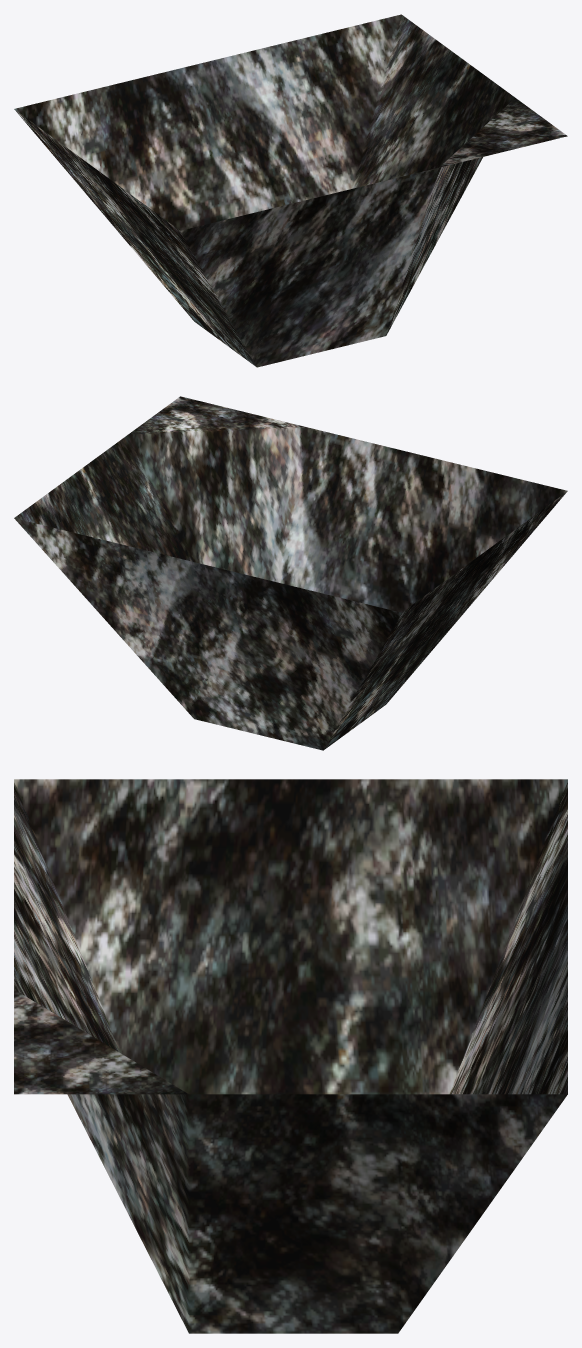
File: OVERHILL_A_01_OH_HOLE_BOTTOM84746.fbx
3 renders of one model, top to bottom at view 1: azimuth 30°, elevation 25°; view 2: azimuth 150°, elevation 25°; view 3: azimuth 270°, elevation 25°, orthographic. The views are drawn at different scales.
Parts seen in each view (by area): view 1: OVERHILL_A_01_OH_HOLE_BOTTOM84746; view 2: OVERHILL_A_01_OH_HOLE_BOTTOM84746; view 3: OVERHILL_A_01_OH_HOLE_BOTTOM84746.
Boxes of the visible parts, x1,y1,x2,y2 form: OVERHILL_A_01_OH_HOLE_BOTTOM84746: (14,14,567,367); OVERHILL_A_01_OH_HOLE_BOTTOM84746: (14,396,567,750); OVERHILL_A_01_OH_HOLE_BOTTOM84746: (14,779,567,1333).
Size of the model in its own units: 136801 by 69737 by 101733.
1 material, 1 textured.
